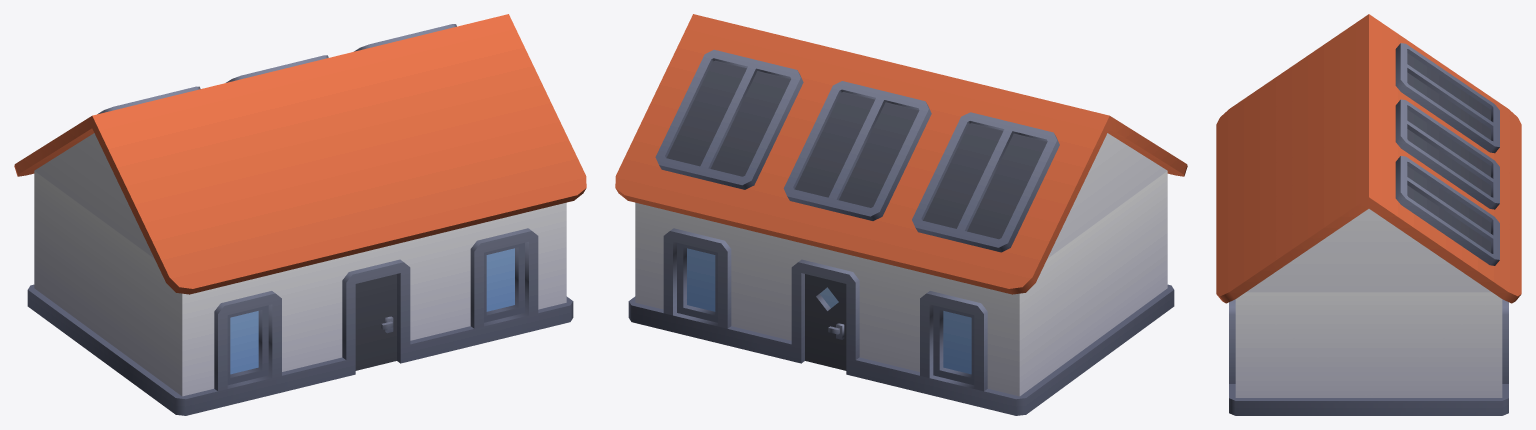
The model's file is house_suburb_h_warm.glb.
The picture shows the model from 3 angles, left to right: view 1: azimuth 30°, elevation 25°; view 2: azimuth 150°, elevation 25°; view 3: azimuth 270°, elevation 25°; orthographic projection. The views are drawn at different scales.
Parts seen in each view (by area): view 1: building-type-h; view 2: building-type-h; view 3: building-type-h.
Boxes of the visible parts, x1,y1,x2,y2 form: building-type-h: [14, 14, 586, 415]; building-type-h: [615, 14, 1187, 415]; building-type-h: [1216, 14, 1521, 415].
Size of the model in its own units: 1.3 by 0.7375 by 0.9161.
1 material, 1 textured.
